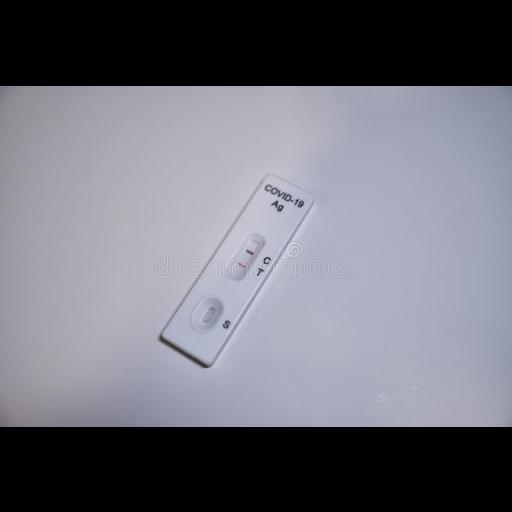Pos: (159, 171, 316, 367)
